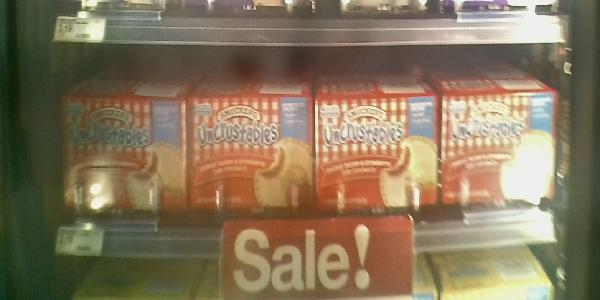icecream: (54, 92, 195, 221), (193, 93, 321, 217), (317, 93, 439, 215), (442, 88, 548, 212)
